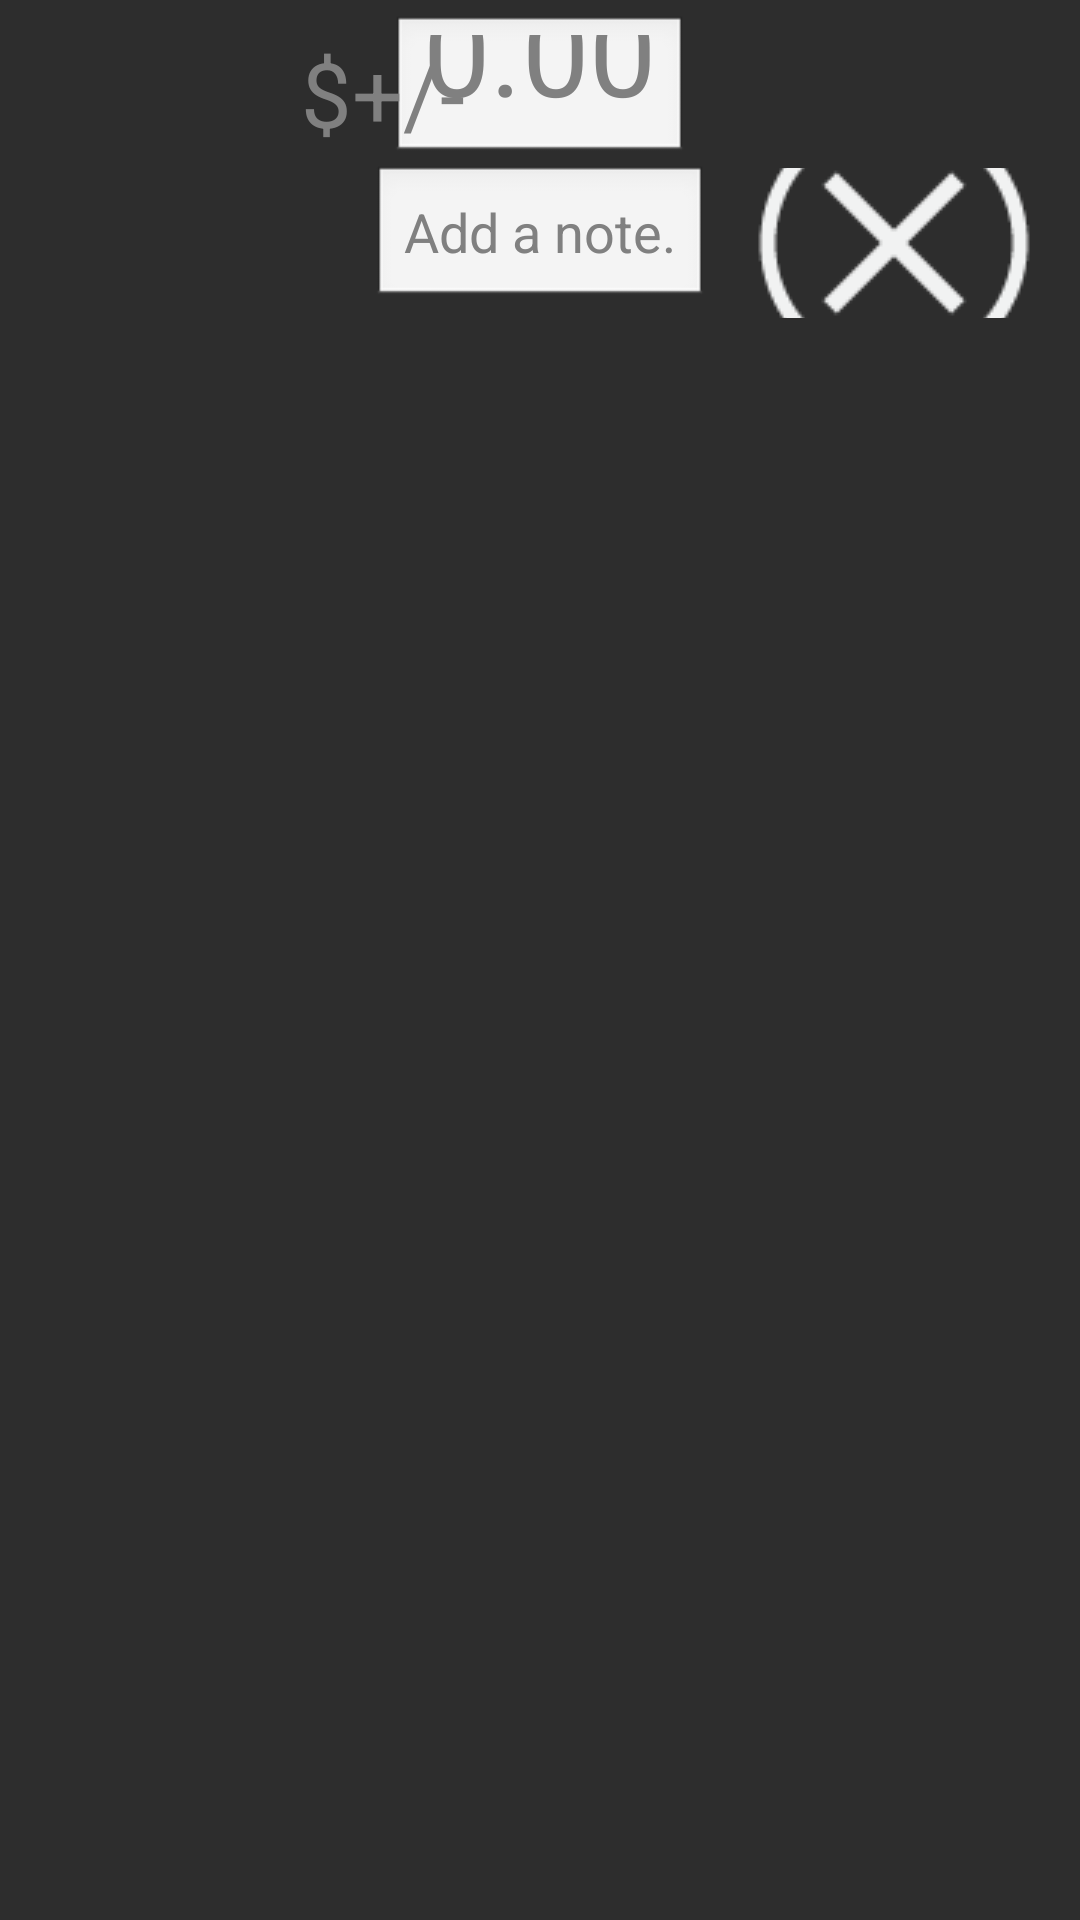

Locate icon controls on the screen. Image size 1080×1920, boxes as (x1, y1, x2, y2).
delete: (758, 168, 1030, 318)
